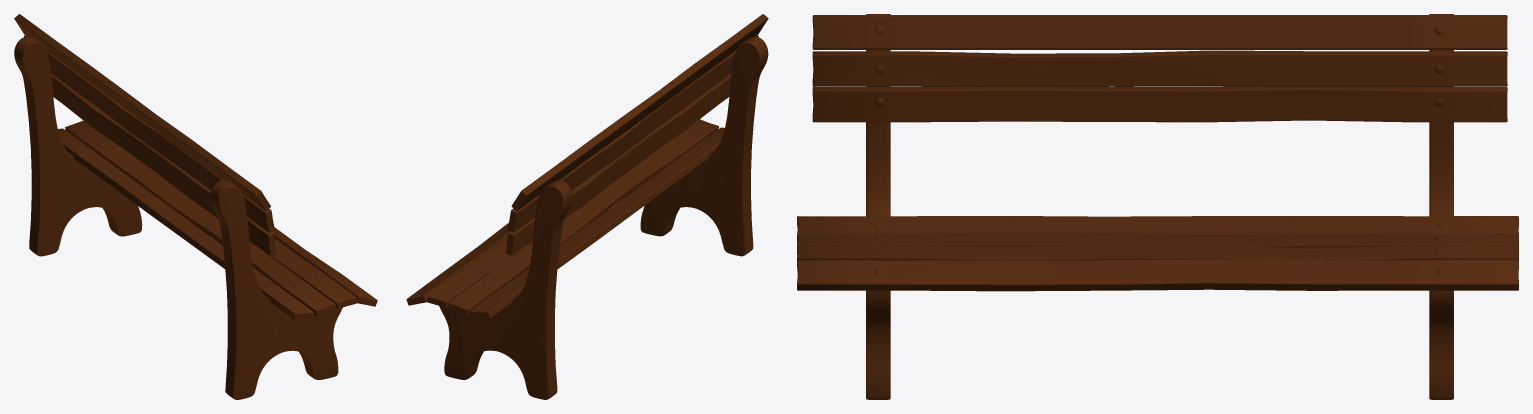
File: garden-bench.glb
The picture shows the model from 3 angles, left to right: view 1: azimuth 30°, elevation 25°; view 2: azimuth 150°, elevation 25°; view 3: azimuth 270°, elevation 25°; orthographic projection. The views are drawn at different scales.
Visible parts, largest first — view 1: GardenBench; view 2: GardenBench; view 3: GardenBench.
Part boxes in pixels (bbox=[...]): GardenBench: bbox=[14, 14, 377, 399]; GardenBench: bbox=[406, 14, 768, 399]; GardenBench: bbox=[797, 14, 1518, 399].
Size of the model in its own units: 0.6477 by 1.02 by 2.08.
